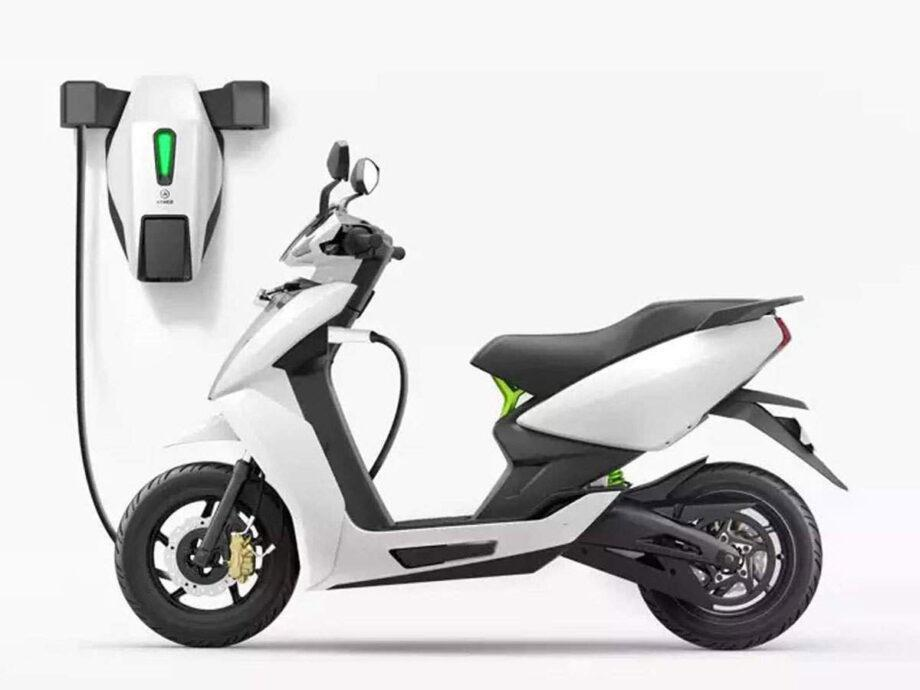motorbike: (114, 137, 849, 649)
